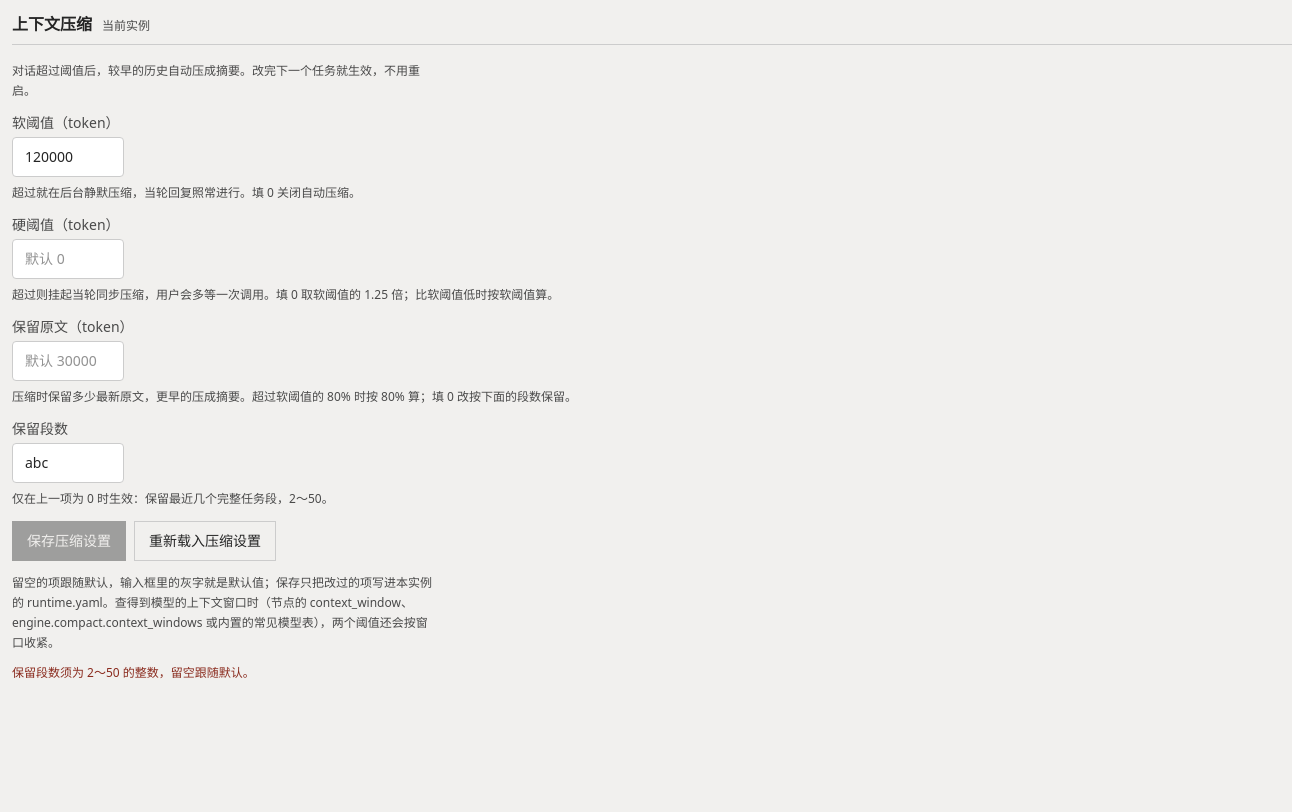
Test case: 读进来的样子 › 本实例写成 keep_recent: abc：照实显示并指出来，改好才能存
expect the field labelled "保留段数" holds "abc": met, box [12,443,124,483]
expect the message shows "保留段数须为 2～50 的整数": met, box [12,664,255,681]
Replace the text in the field labelled "软阈值（token）" with "90000" at (68, 157), box [12,137,124,177]
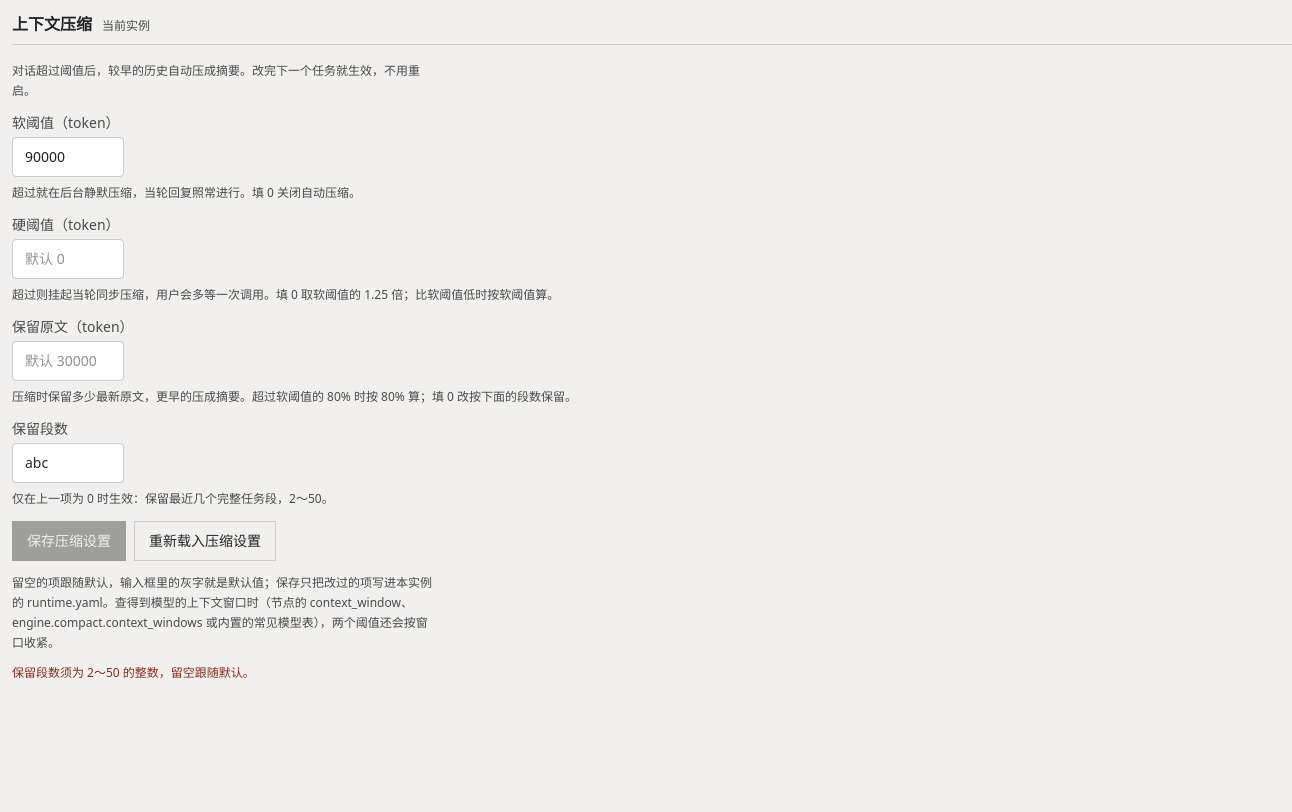
expect the button "保存压缩设置" is disabled: met, box [12,521,126,561]
Clear the field labelled "保留段数" at (68, 463), box [12,443,124,483]
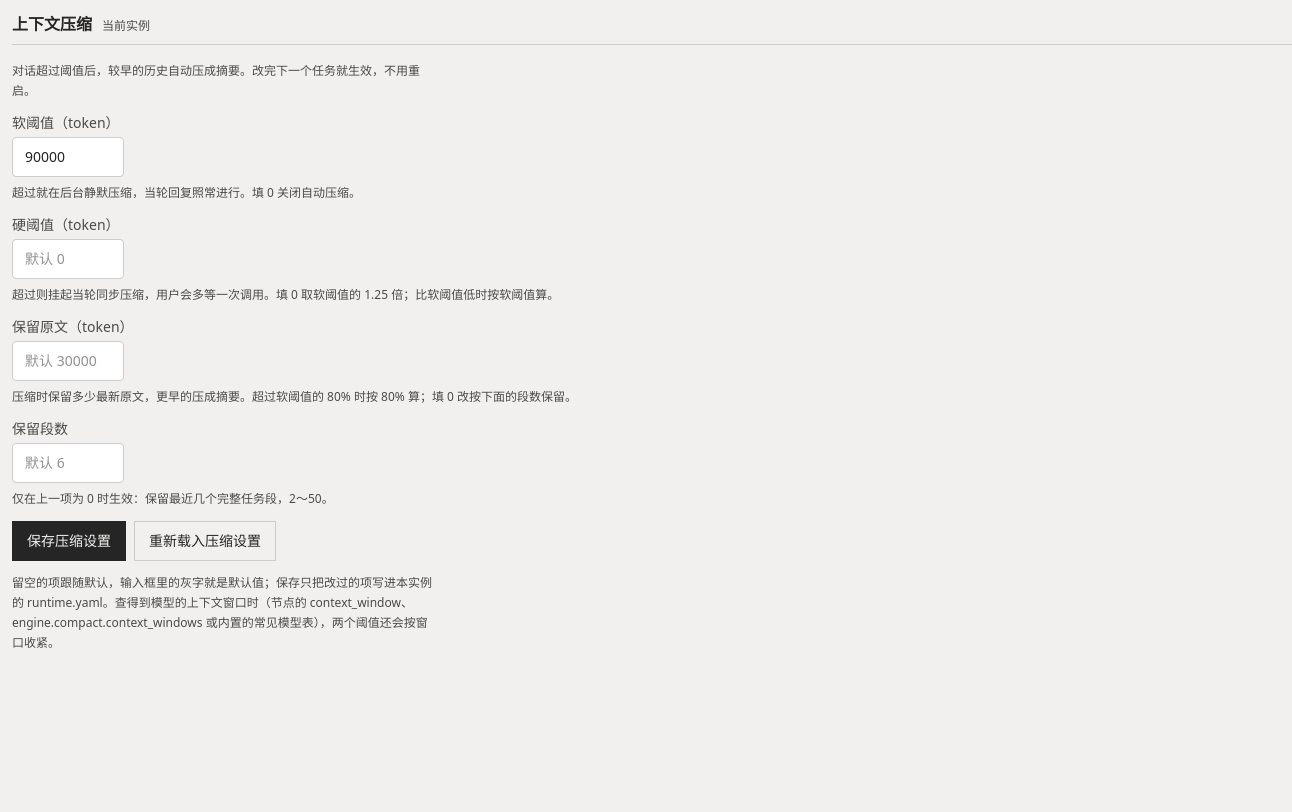
Click the button "保存压缩设置" at (69, 541), box [12,521,126,561]
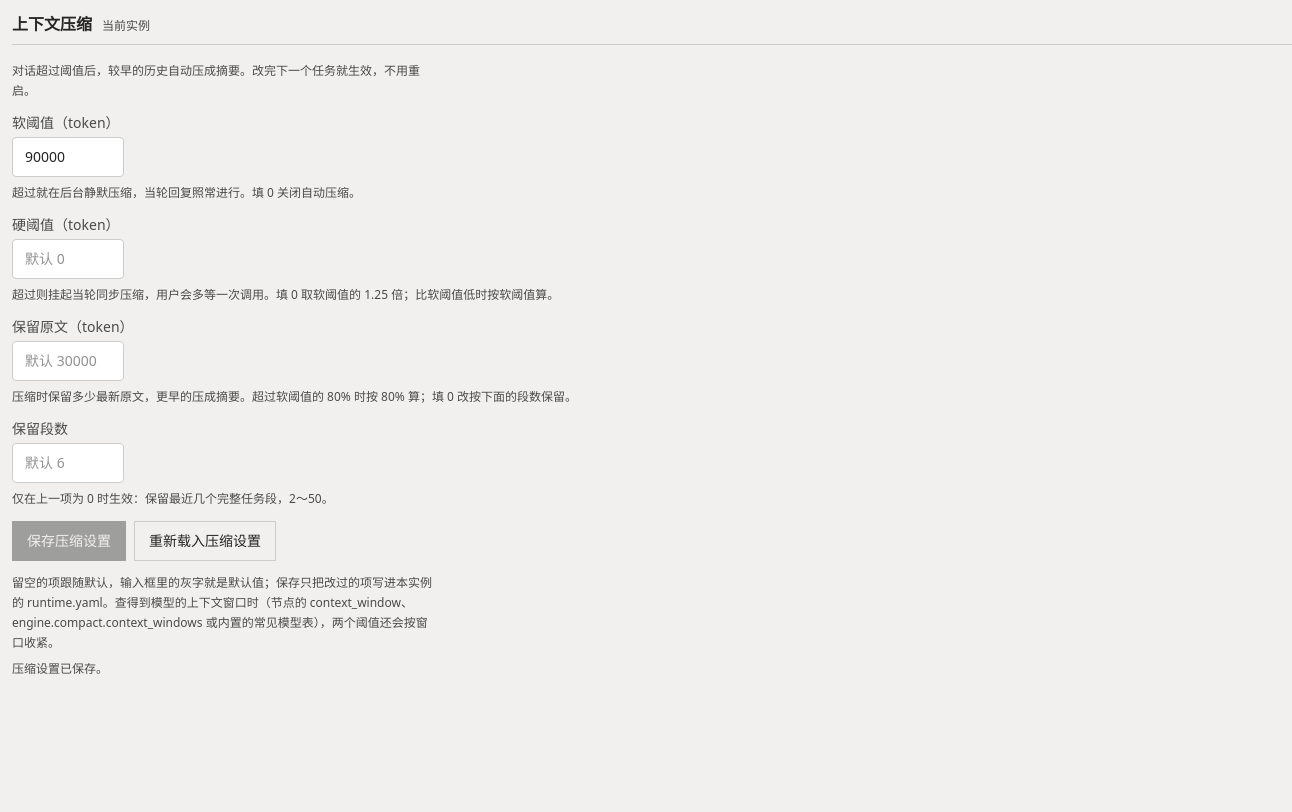
expect the text "压缩设置已保存。" is shown: met, box [12,660,108,677]
